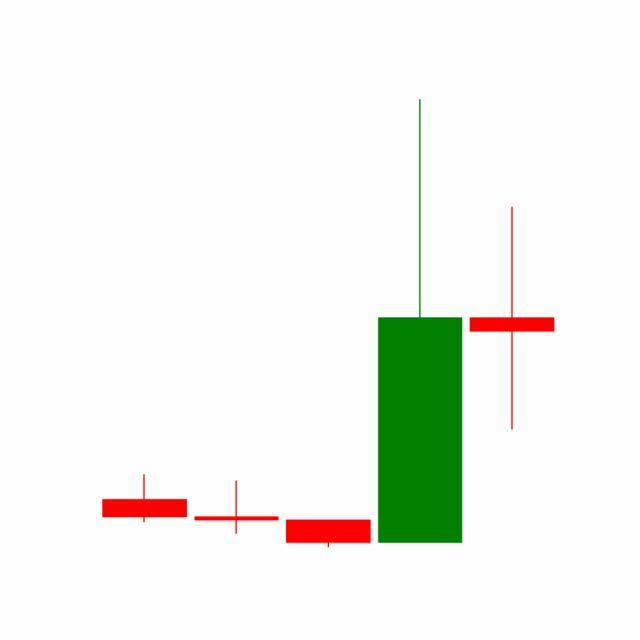Spinning Top: (466, 205, 559, 433)
